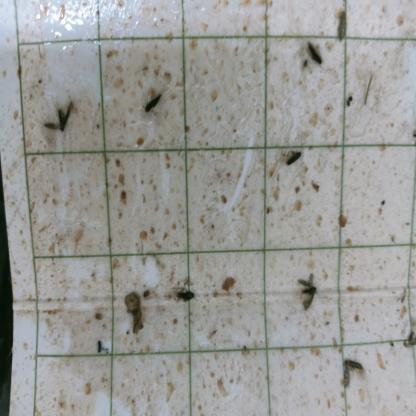prays_oleae: (295, 269, 319, 316), (42, 102, 75, 134), (341, 353, 365, 386), (306, 36, 324, 70), (175, 280, 197, 305), (144, 89, 164, 116), (285, 147, 303, 171)
